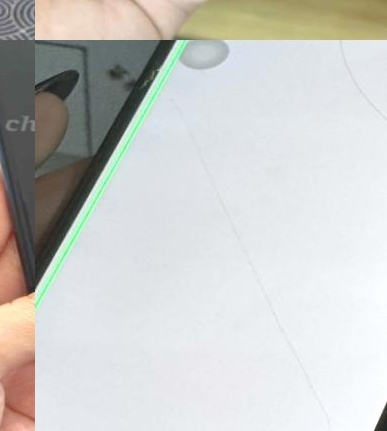screen_defect: (0, 0, 387, 164), (275, 340, 353, 431), (234, 250, 300, 334), (312, 40, 377, 114), (183, 157, 251, 224)
